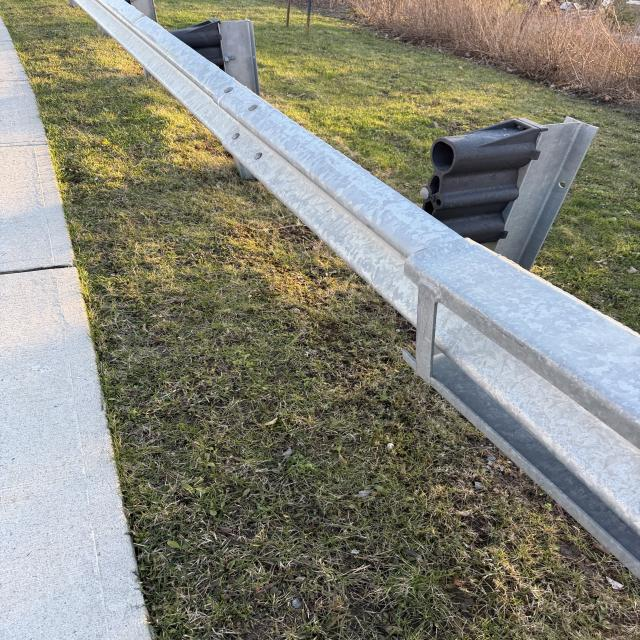Guard rail: (73, 12, 590, 263), (422, 121, 596, 263)
